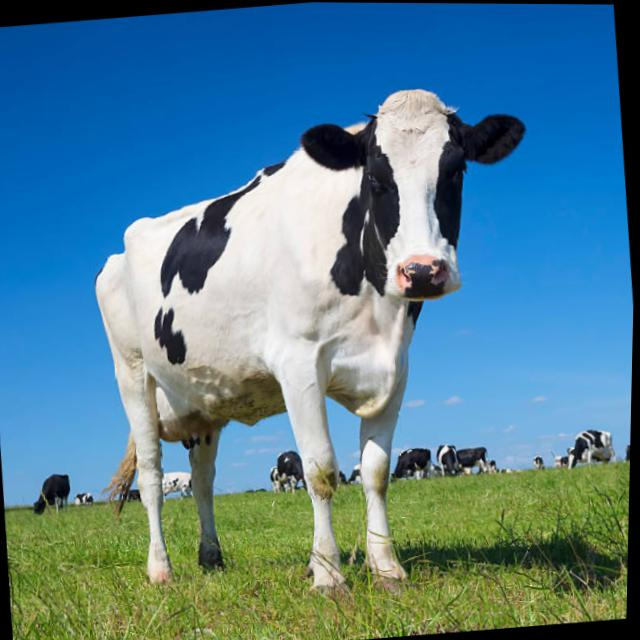cowFace: (293, 68, 542, 313)
